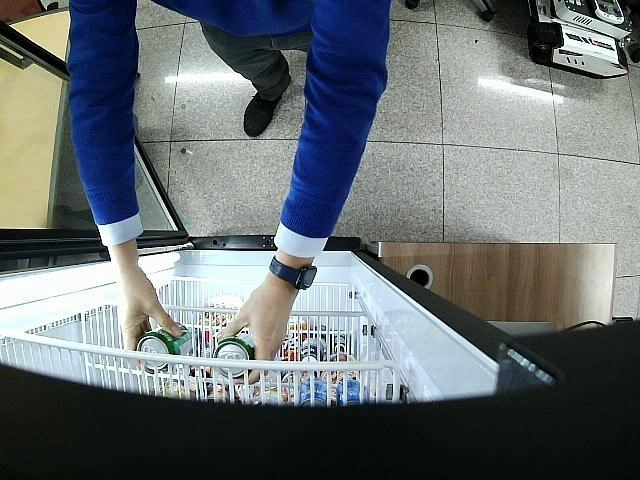12_chilsungCider: (136, 322, 192, 370), (211, 334, 255, 379)
